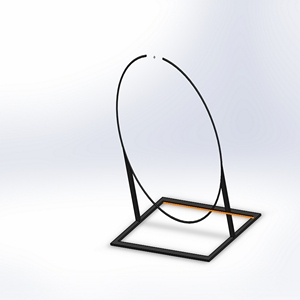circle: (110, 52, 261, 263)
